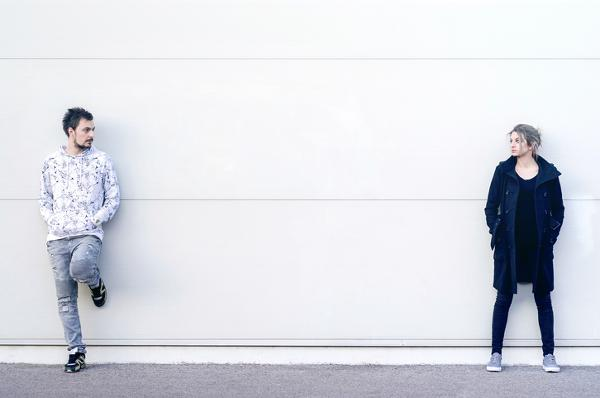Good: (38, 107, 565, 373)
